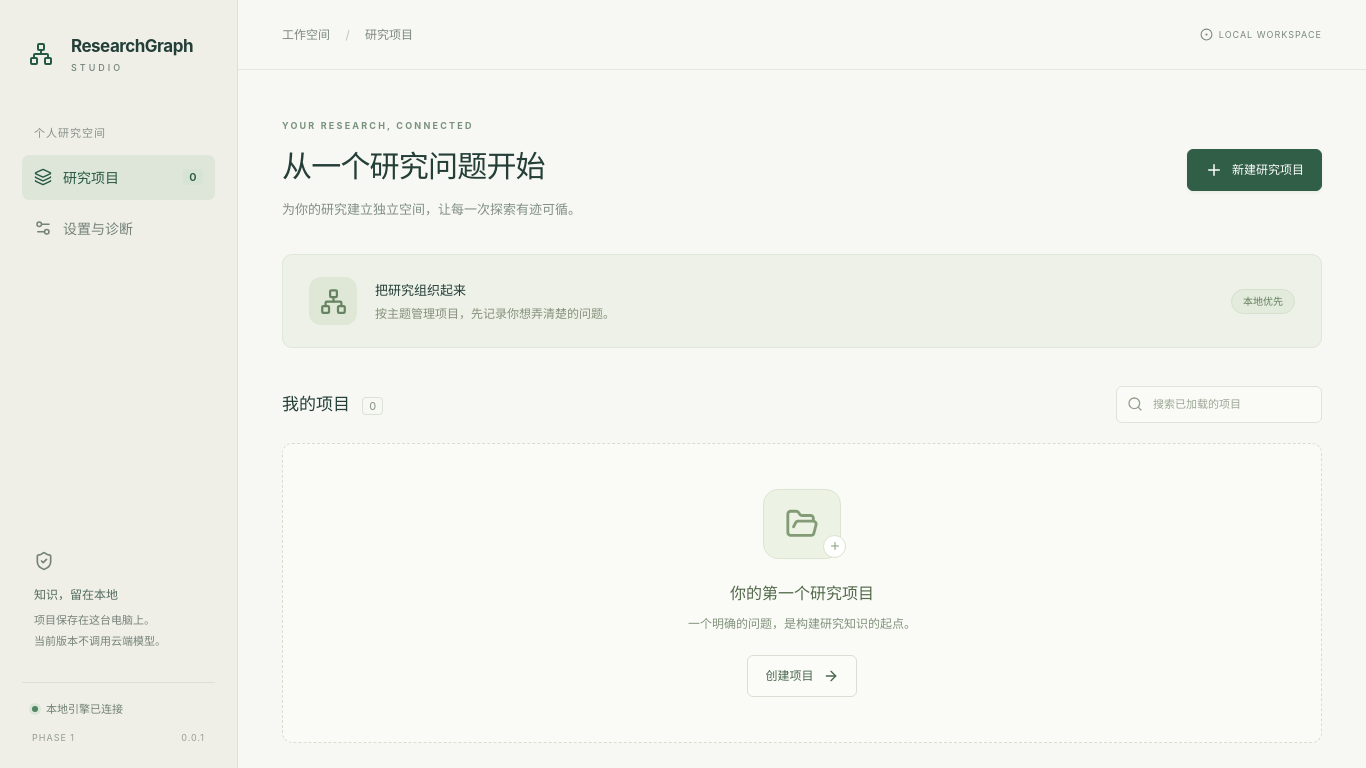
Scenario: failed creation keeps the dialog and reuses idempotency key when retried
The image size is (1366, 768).
Expected: the heading "你的第一个研究项目" is shown, 730,581 -> 874,605
Step 1. Click the button "新建研究项目" → (1254, 170), box 1187,149 -> 1322,191
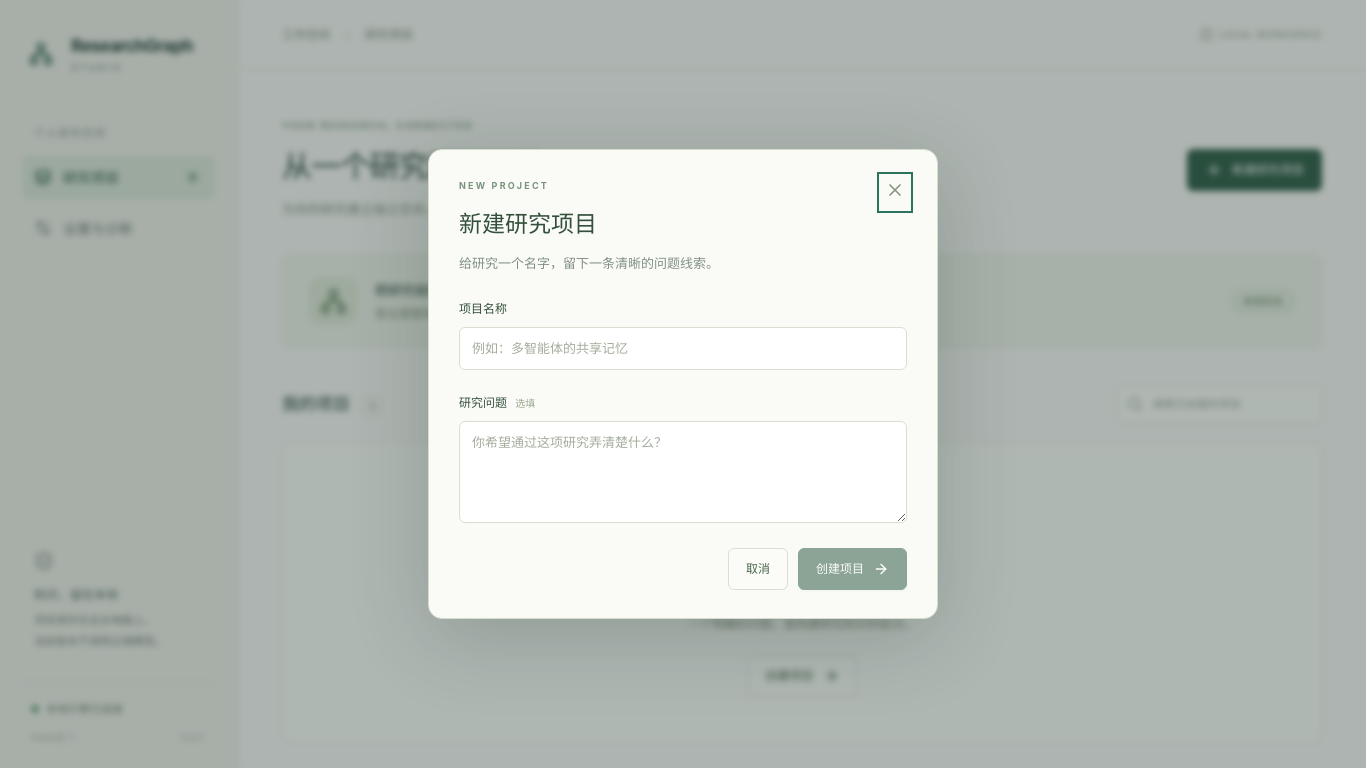
Step 2. Type "A" into the field labelled "项目名称" → (683, 349), box 459,327 -> 907,370
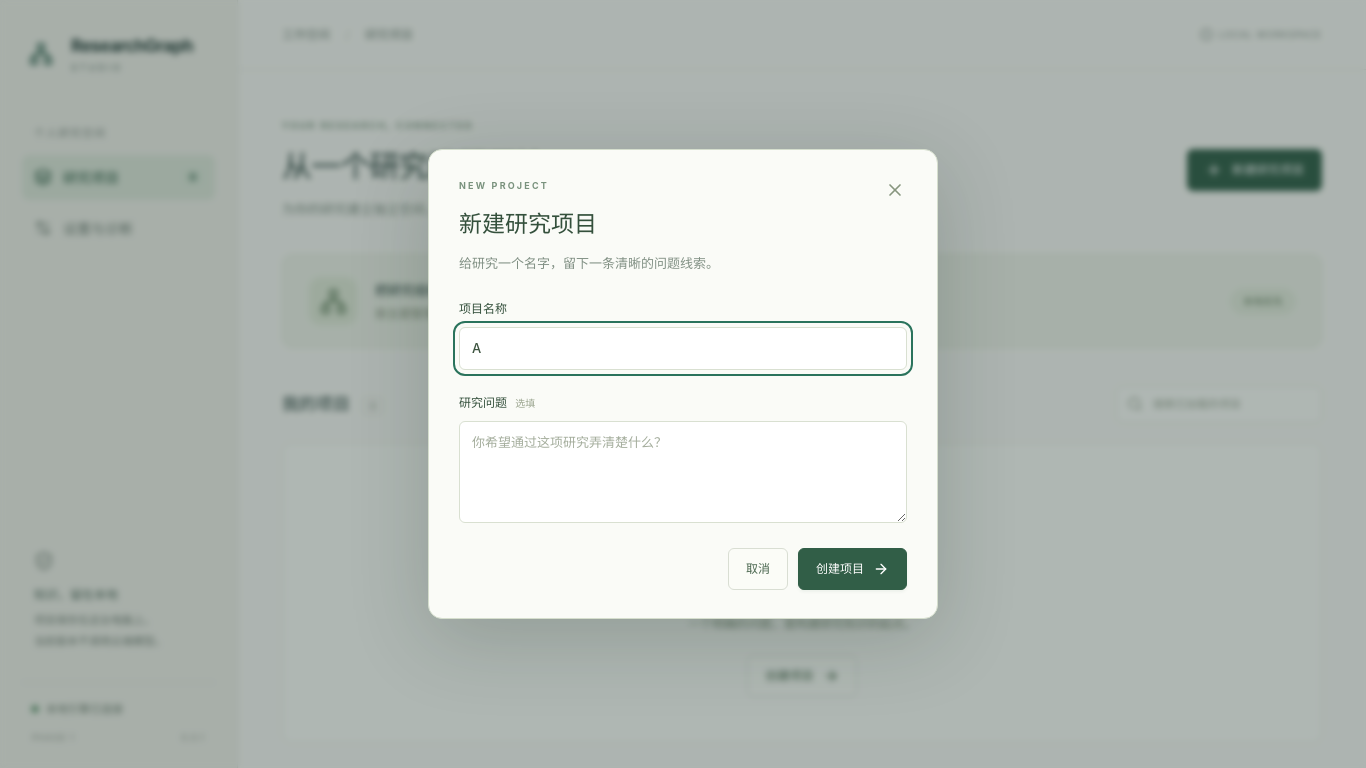
Step 3. Click the button "创建项目" → (852, 569), box 798,548 -> 907,590
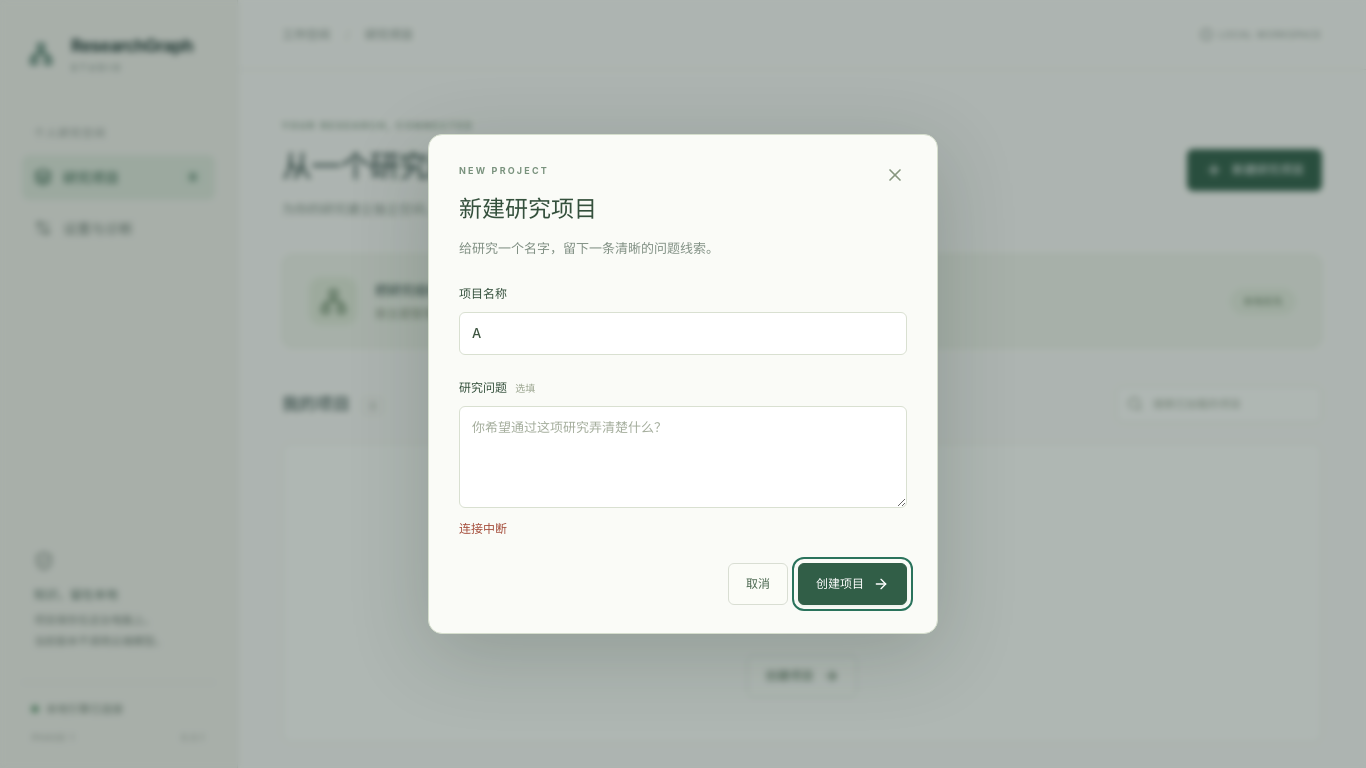
Result: the message "连接中断" is shown at 459,521 -> 507,536
Step 4. Click the button "创建项目" → (852, 584), box 798,563 -> 907,605
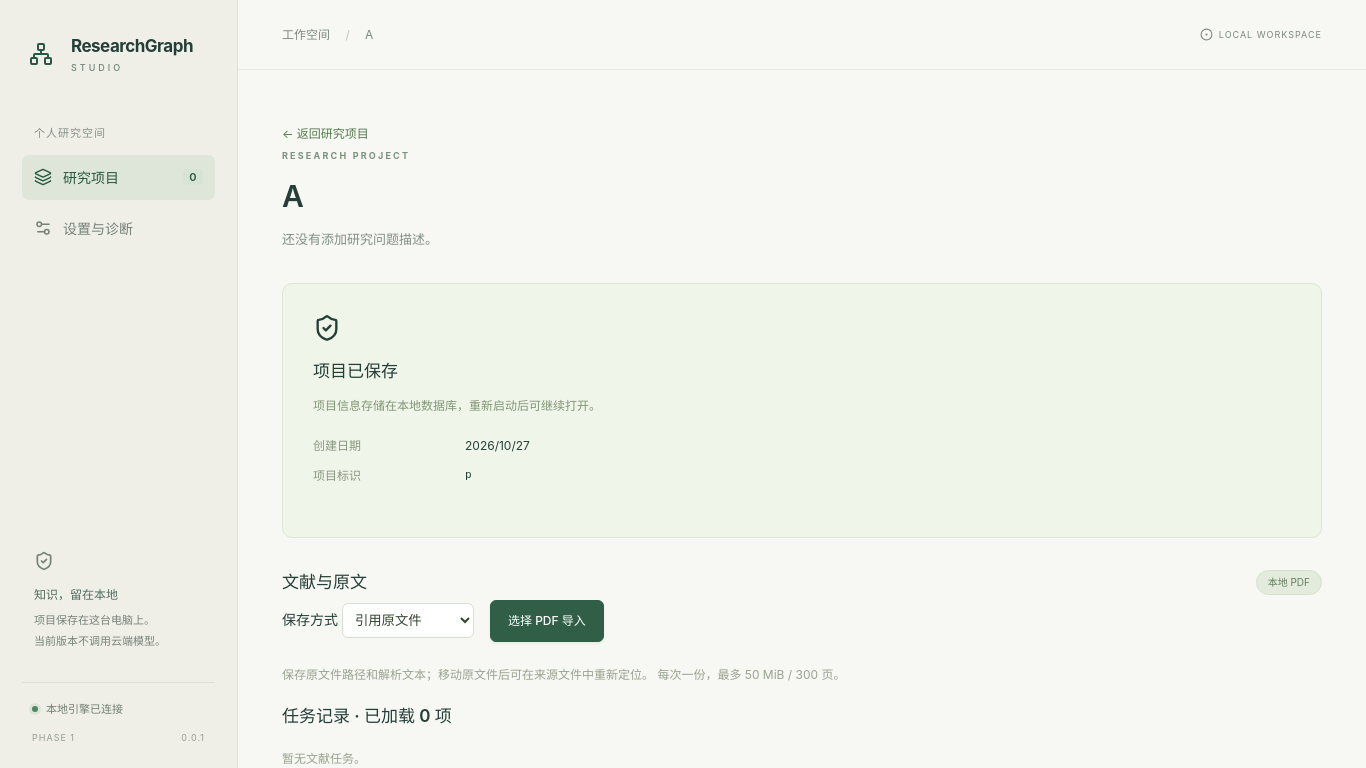
Result: the heading "项目已保存" is shown at 313,361 -> 398,381
